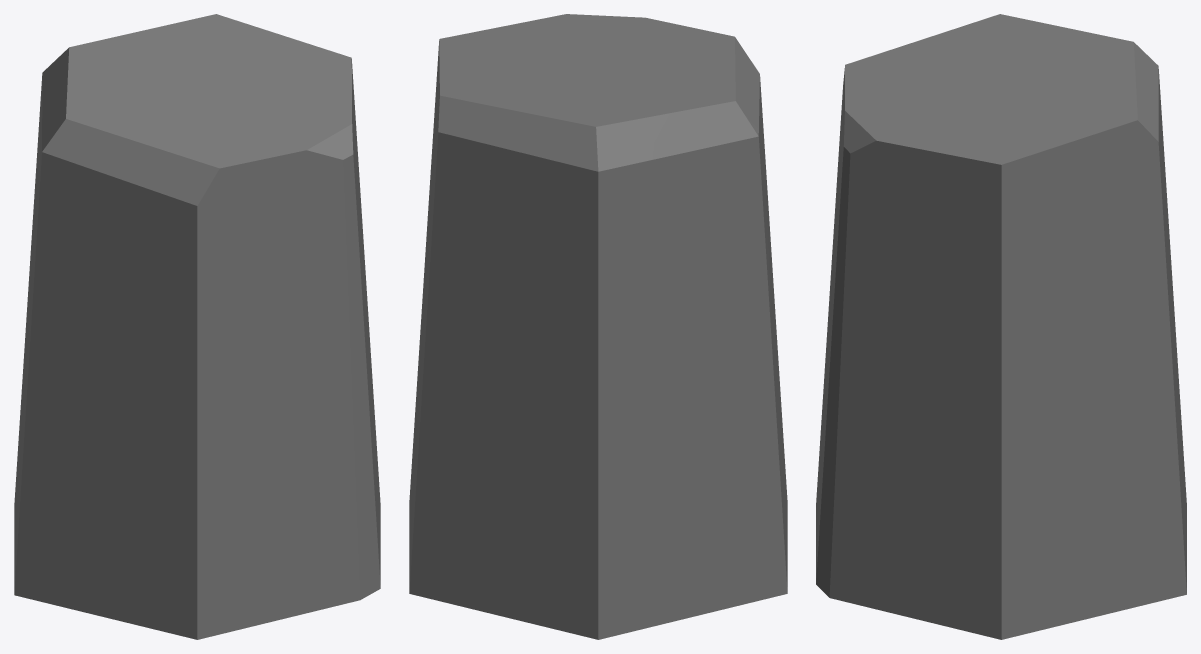
Rendered from rock16.fbx.
3 renders of one model, left to right at view 1: azimuth 30°, elevation 25°; view 2: azimuth 150°, elevation 25°; view 3: azimuth 270°, elevation 25°, orthographic. The views are drawn at different scales.
Parts seen in each view (by area): view 1: rock8; view 2: rock8; view 3: rock8.
Part boxes in pixels (x1,y1,x2,y2): rock8: (14,14,380,639); rock8: (409,14,787,639); rock8: (816,14,1186,639).
Bounding box in the file's own units: 2070 × 2541 × 1792.
Materials: 1 (1 with a texture image).
